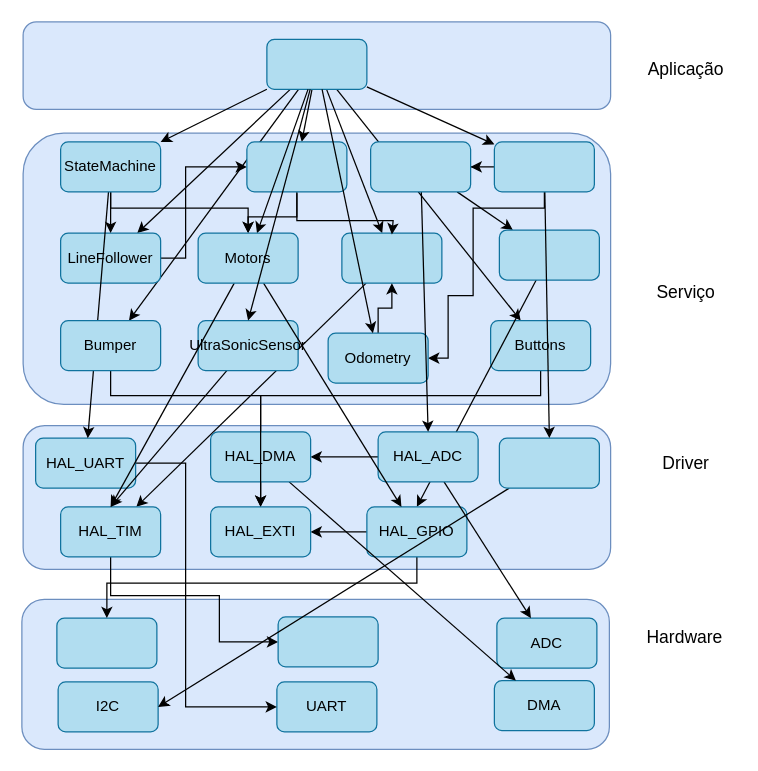
The diagram is 758 pixels wide and 771 high, and some of its shapes have lost their labels. The shapes that lost their labels are listed below. From the top down, each one's centre as x and y in pixels, then its label:
At point 316,63: "Main".
At point 296,166: "Pid".
At point 420,166: "Battery".
At point 543,166: "Lcd".
At point 391,257: "Encoders".
At point 548,254: "LineSensors".
At point 548,462: "HAL_I2C".
At point 106,642: "GPIO".
At point 327,641: "TIMERS".
